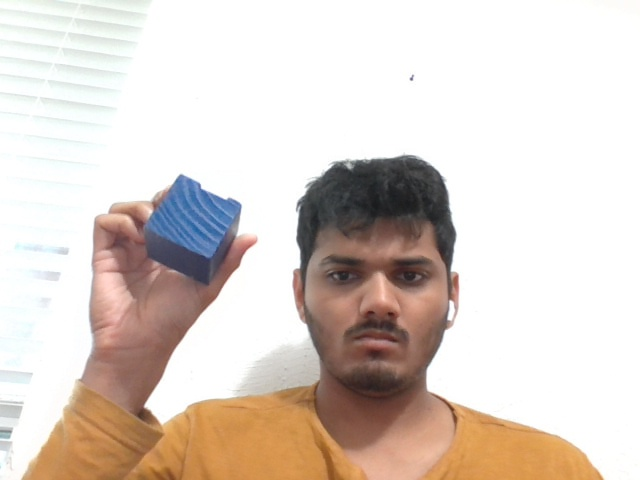BlueBlock: (143, 173, 242, 285)
